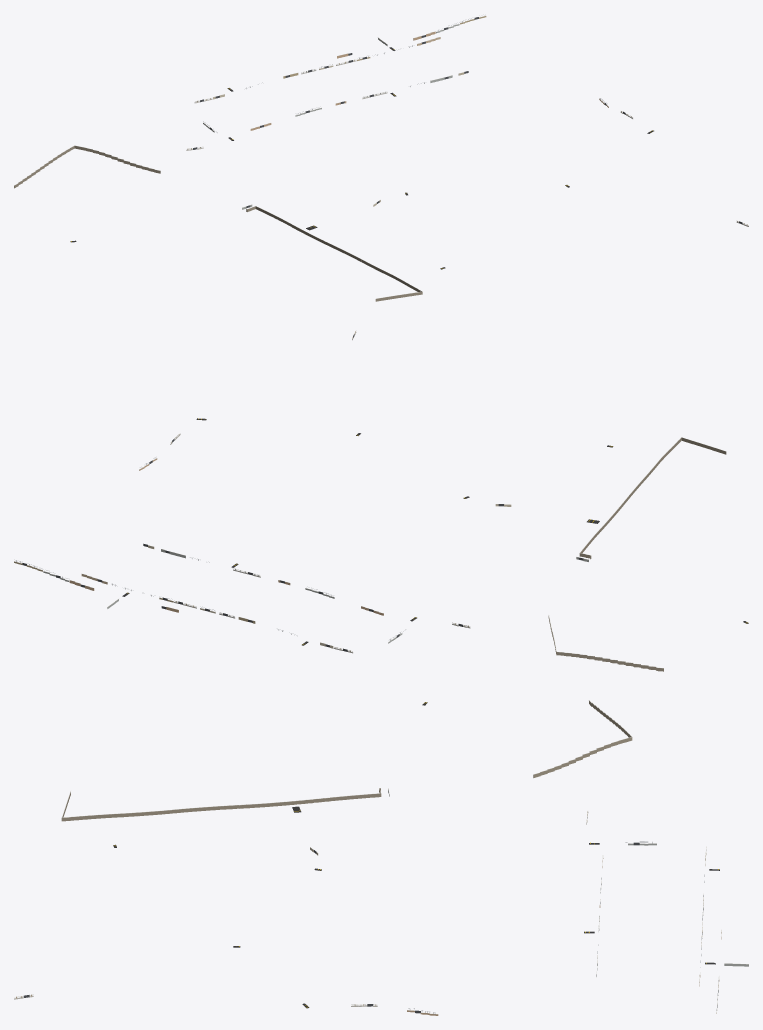
3 renders of one model, top to bottom at view 1: azimuth 30°, elevation 25°; view 2: azimuth 150°, elevation 25°; view 3: azimuth 270°, elevation 25°, orthographic. The views are drawn at different scales.
Parts seen in each view (by area): view 1: nd_st_m15_m5_lod0; view 2: nd_st_m15_m5_lod0; view 3: nd_st_m15_m5_lod0.
Boxes of the visible parts, box(x1,y1,x2,y2) form: nd_st_m15_m5_lod0: box(14, 15, 748, 301); nd_st_m15_m5_lod0: box(14, 330, 748, 671); nd_st_m15_m5_lod0: box(14, 700, 748, 1015).
Size of what is drawn, in the model's own units: 435 by 17.04 by 415.
